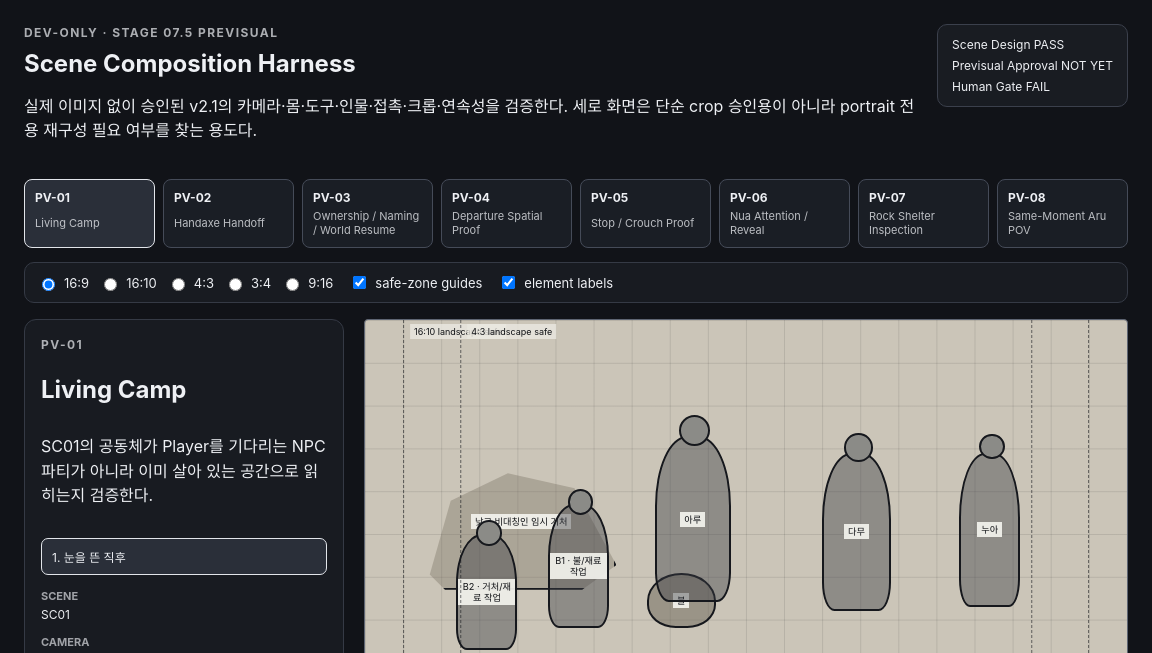
Test case: Stage075PrevisualHarness › exposes tablet and phone portrait as separate composition review families
Step 1. Click the radio button labelled "3:4" → [235, 284], box [229,278,242,291]
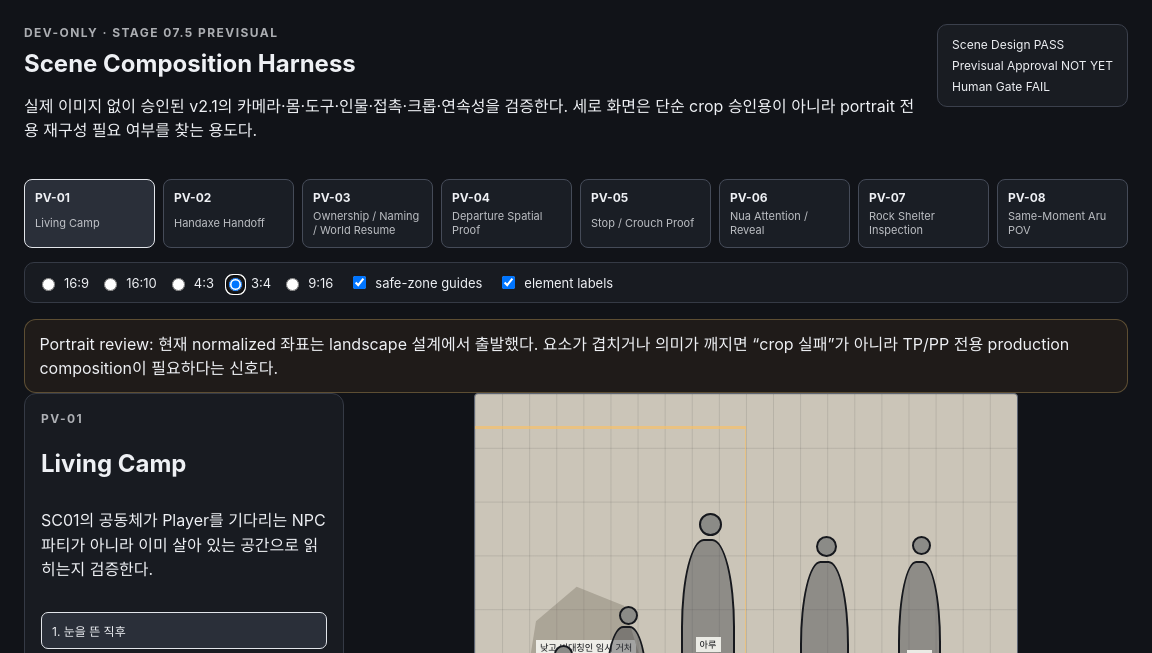
Step 2. Click the radio button labelled "9:16" → [293, 284], box [286,278,299,291]
(page scrolled)
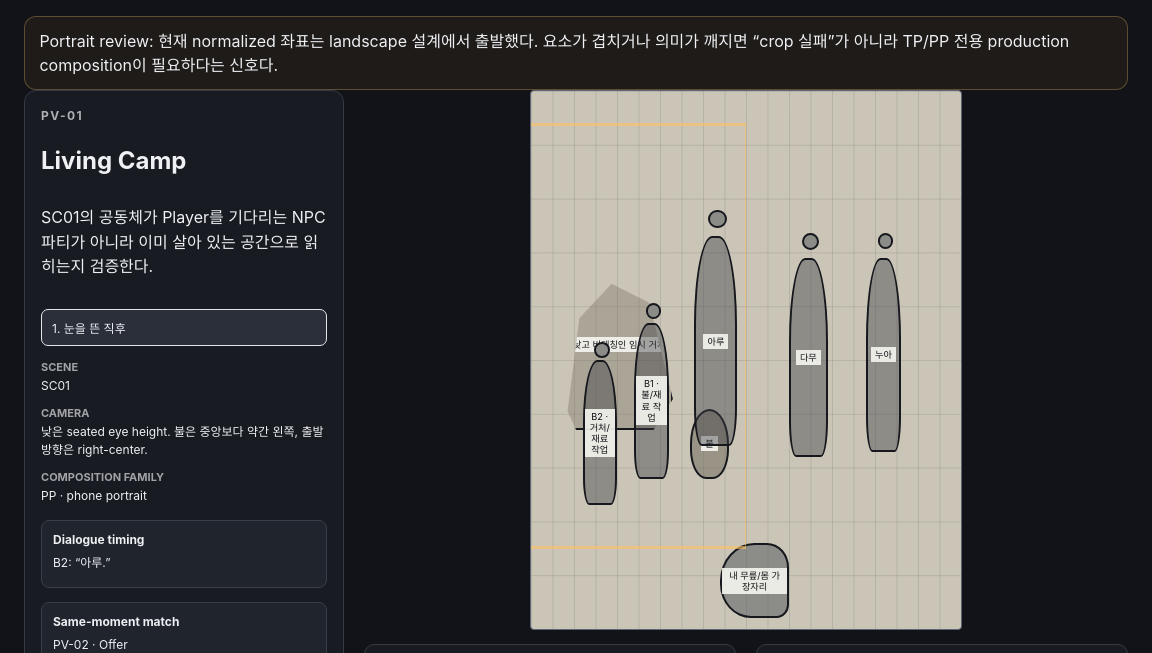
Check: the text "TP/PP 전용 production composition" is shown, box [39,31,1069,75]
Check: the text "phone portrait" is shown, box [41,488,147,503]
